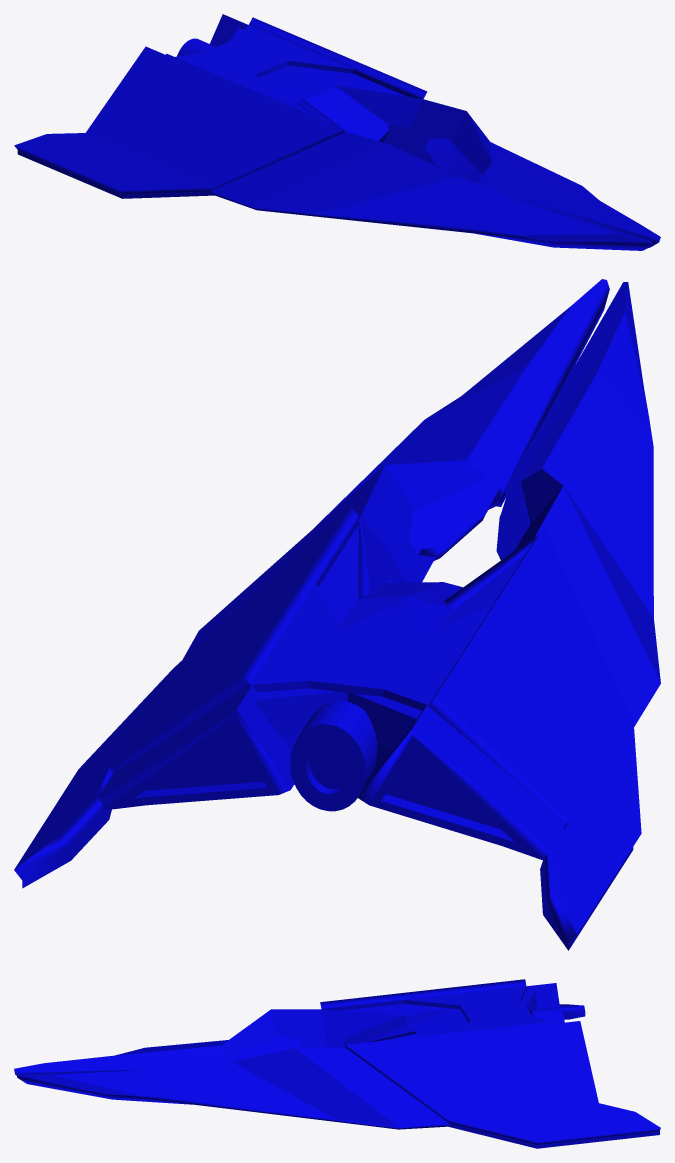
File: Shield2.fbx
The picture shows the model from 3 angles, top to bottom: view 1: azimuth 30°, elevation 25°; view 2: azimuth 150°, elevation 25°; view 3: azimuth 270°, elevation 25°; orthographic projection. The views are drawn at different scales.
Visible parts, largest first — view 1: pasted__Spaceship; view 2: pasted__Spaceship; view 3: pasted__Spaceship.
Part boxes in pixels (x1=…): pasted__Spaceship: x1=14, y1=14, x2=660, y2=250; pasted__Spaceship: x1=14, y1=279, x2=660, y2=950; pasted__Spaceship: x1=14, y1=979, x2=660, y2=1148.
Size of the model in its own units: 1817 by 514 by 3549.
